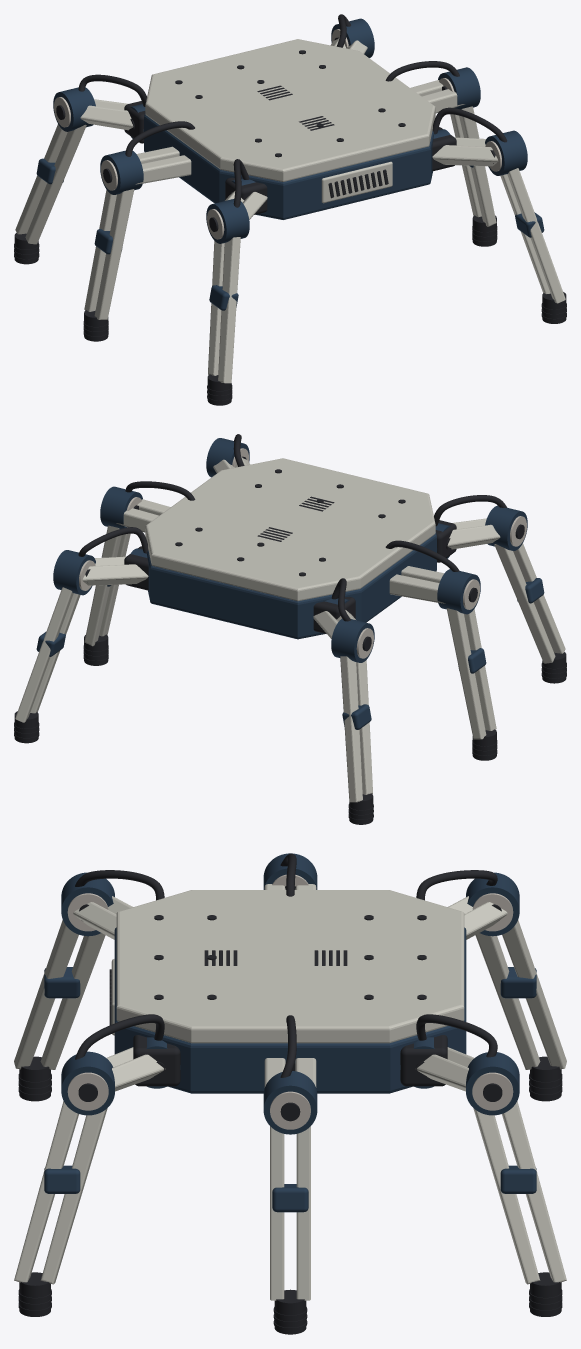
File: robots-20.glb
The picture shows the model from 3 angles, top to bottom: view 1: azimuth 30°, elevation 25°; view 2: azimuth 150°, elevation 25°; view 3: azimuth 270°, elevation 25°; orthographic projection. The views are drawn at different scales.
Visible parts, largest first — view 1: deck, lower, knee, frame, upper, feet, cables, front-vent, hip; view 2: deck, lower, frame, knee, upper, feet, cables, hip; view 3: deck, lower, knee, frame, feet, upper, cables, hip.
Part boxes in pixels (x1=…): deck: x1=145, y1=39, x2=435, y2=181; lower: x1=15, y1=106, x2=565, y2=383; knee: x1=53, y1=18, x2=527, y2=243; frame: x1=144, y1=112, x2=433, y2=219; upper: x1=80, y1=37, x2=498, y2=219; feet: x1=14, y1=215, x2=566, y2=405; cables: x1=78, y1=14, x2=507, y2=207; front-vent: x1=321, y1=161, x2=392, y2=203; hip: x1=124, y1=101, x2=456, y2=214; deck: x1=145, y1=458, x2=435, y2=601; lower: x1=15, y1=525, x2=565, y2=802; frame: x1=147, y1=531, x2=436, y2=639; knee: x1=53, y1=438, x2=527, y2=662; upper: x1=82, y1=456, x2=500, y2=638; feet: x1=14, y1=634, x2=566, y2=824; cables: x1=78, y1=434, x2=506, y2=621; hip: x1=124, y1=520, x2=456, y2=633; deck: x1=116, y1=890, x2=464, y2=1043; lower: x1=14, y1=920, x2=566, y2=1300; knee: x1=61, y1=853, x2=519, y2=1134; frame: x1=114, y1=927, x2=466, y2=1093; feet: x1=18, y1=1056, x2=562, y2=1334; upper: x1=73, y1=884, x2=507, y2=1091; cables: x1=75, y1=853, x2=497, y2=1077; hip: x1=133, y1=1035, x2=447, y2=1088.
Bounding box in the file's own units: 3.19 × 1.45 × 2.82.
